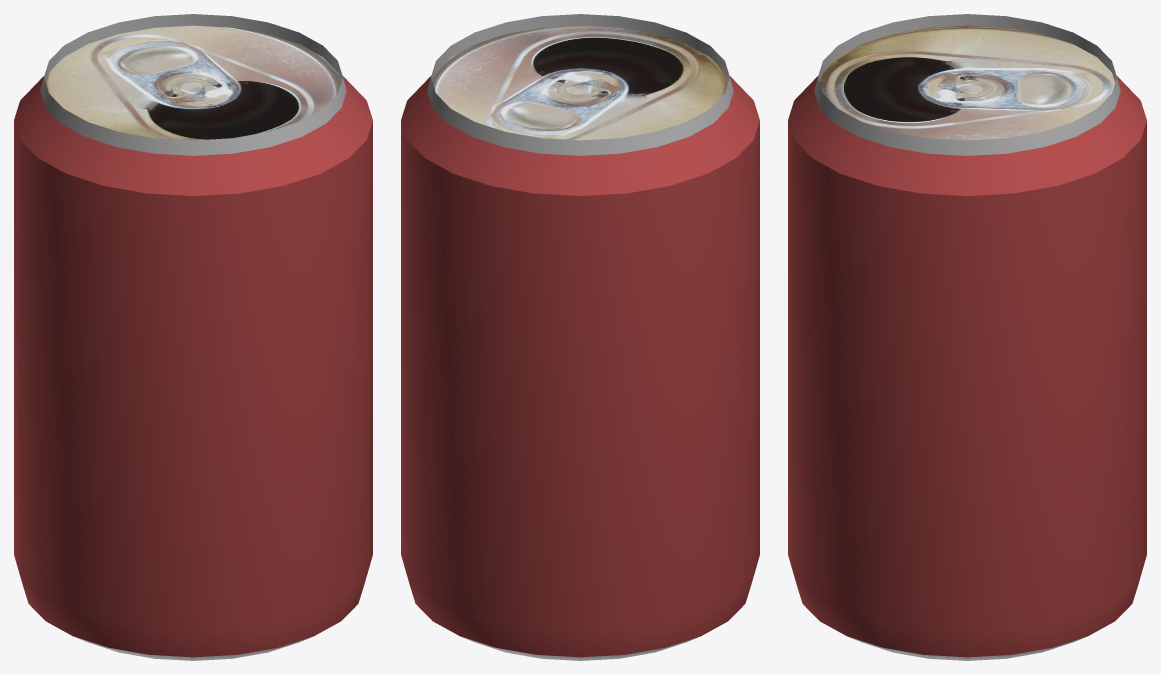
The model's file is alcohol_can.fbx.
3 views of the same model, side by side, from view 1: azimuth 30°, elevation 25°; view 2: azimuth 150°, elevation 25°; view 3: azimuth 270°, elevation 25° (orthographic).
Parts seen in each view (by area): view 1: Cylinder; view 2: Cylinder; view 3: Cylinder.
Boxes of the visible parts, left/top/right/bottom form: Cylinder: left=14, top=14, right=372, bottom=660; Cylinder: left=401, top=14, right=759, bottom=660; Cylinder: left=788, top=14, right=1146, bottom=660.
Size of the model in its own units: 0.1 by 0.16 by 0.1.
Materials: 3 (1 with a texture image).
